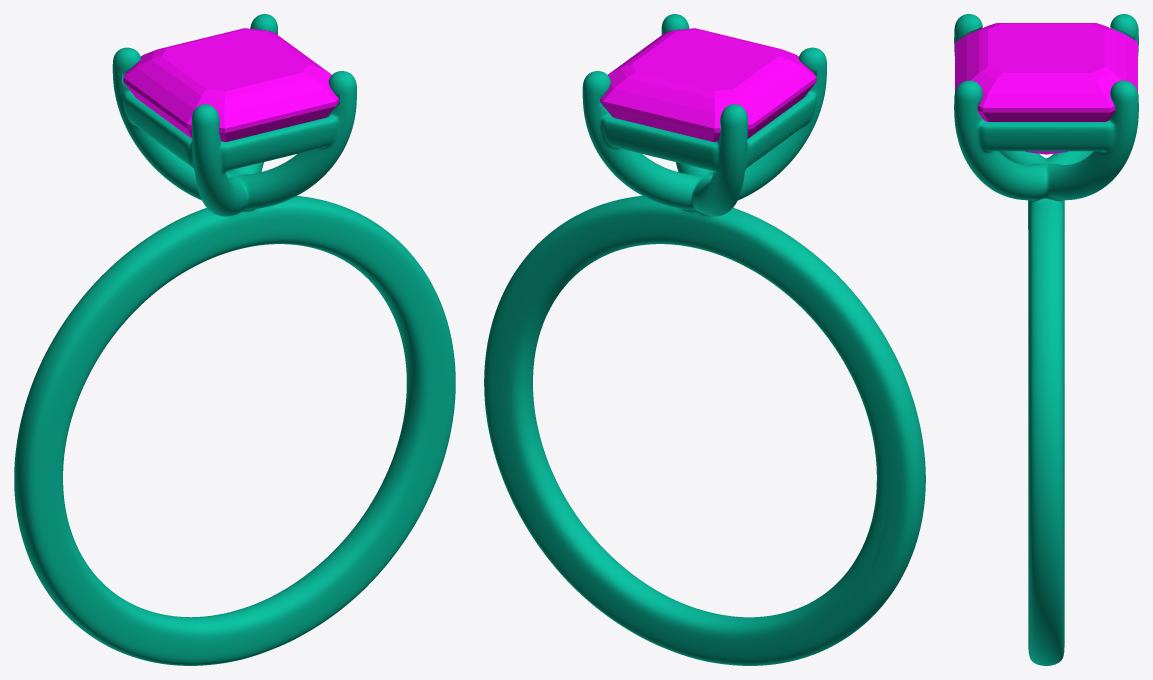
The model's file is BE17651_AS_200ct_RENDER.glb.
3 views of the same model, side by side, from view 1: azimuth 30°, elevation 25°; view 2: azimuth 150°, elevation 25°; view 3: azimuth 270°, elevation 25° (orthographic).
Parts seen in each view (by area): view 1: Metal 01, CS_Diamond_Asscher; view 2: Metal 01, CS_Diamond_Asscher; view 3: Metal 01, CS_Diamond_Asscher.
Boxes of the visible parts, x1,y1,x2,y2 form: Metal 01: (14,14,455,665); CS_Diamond_Asscher: (123,28,339,141); Metal 01: (484,14,925,665); CS_Diamond_Asscher: (600,28,816,141); Metal 01: (954,14,1138,665); CS_Diamond_Asscher: (955,23,1137,154).
Size of the model in its own units: 20.48 by 26.91 by 7.58.
